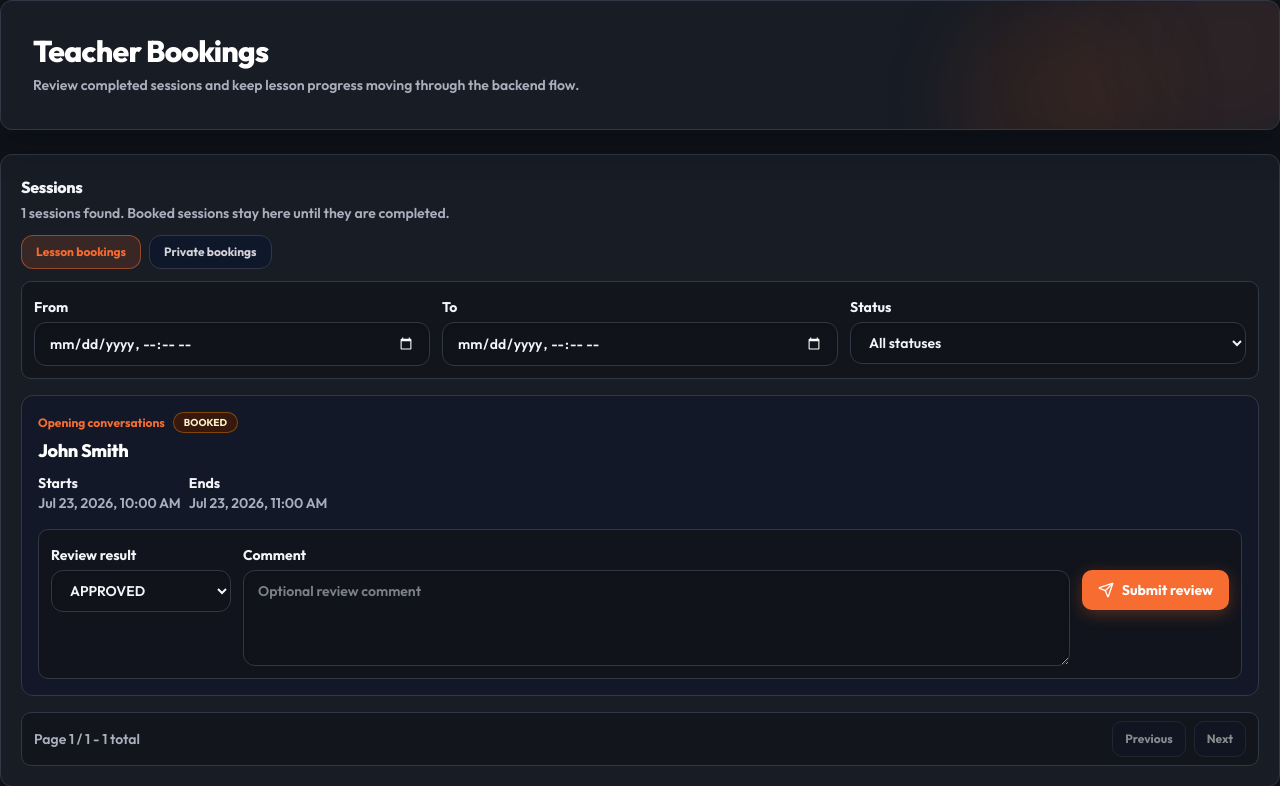
Scenario: Teacher workspace › submits teacher review and explains missing compensation validation errors
Check: the text "Opening conversations" is shown, box [38, 414, 165, 430]
Select "NOT_APPROVED" in the dropdown with test id "teacher-review-result-88". click: (141, 591)
box: [51, 570, 231, 612]
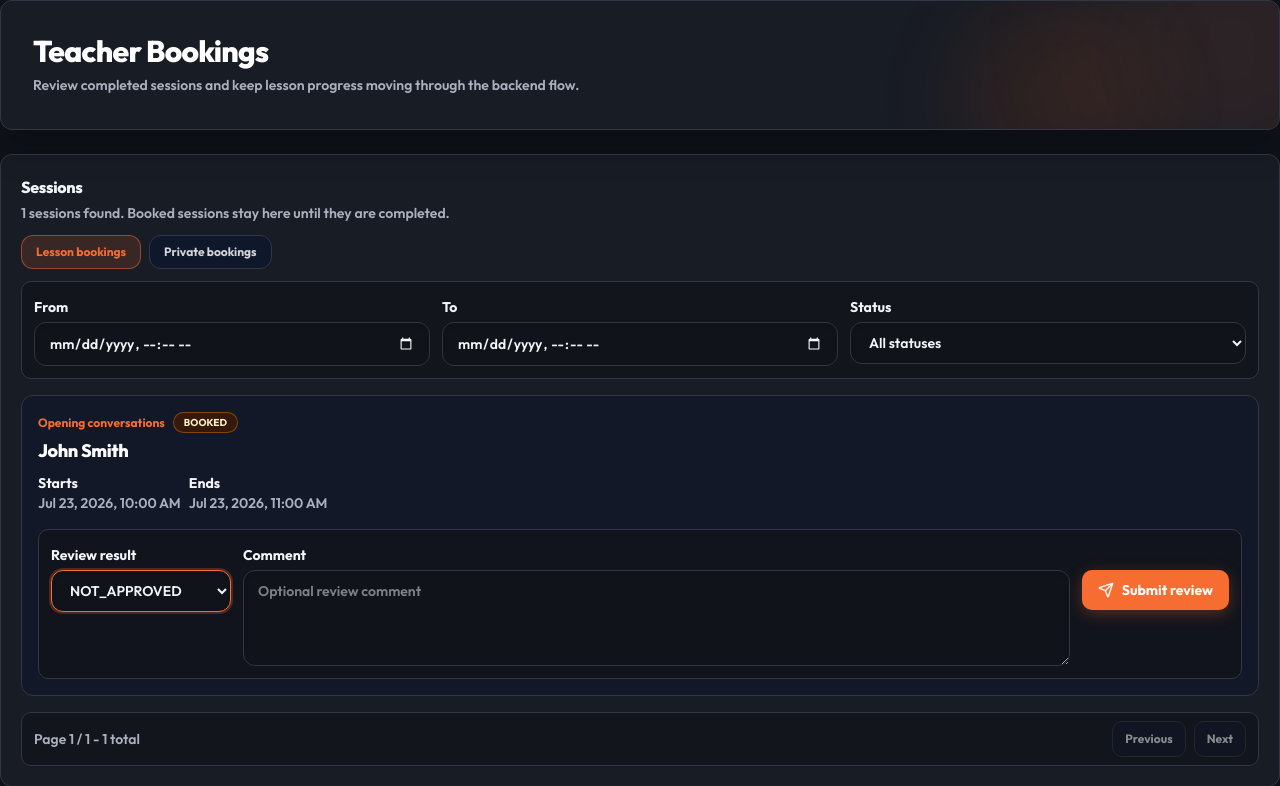
Type "Needs another speaking practice session." into the text box with test id "teacher-review-comment-88". click: (656, 618)
box: [243, 570, 1070, 666]
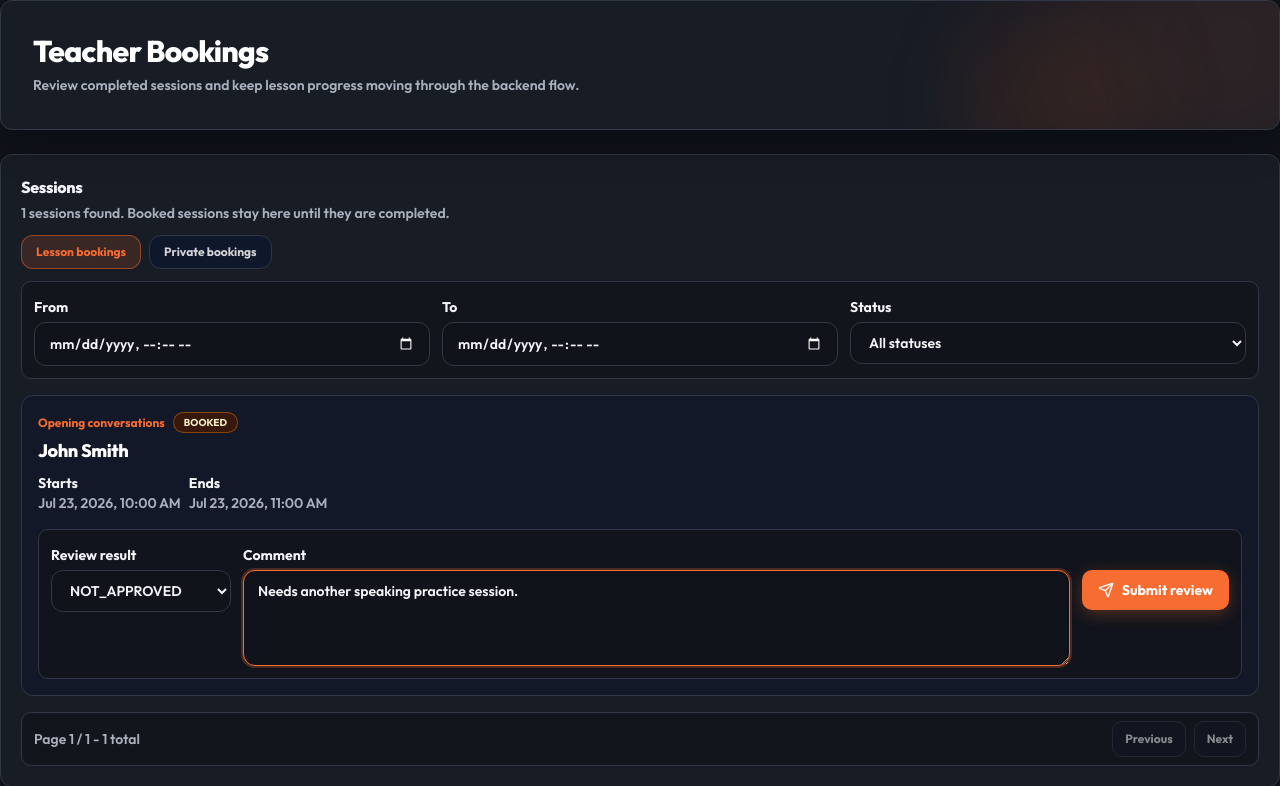
Click the button with test id "submit-teacher-review-88". click: (1155, 590)
box: [1082, 570, 1229, 610]
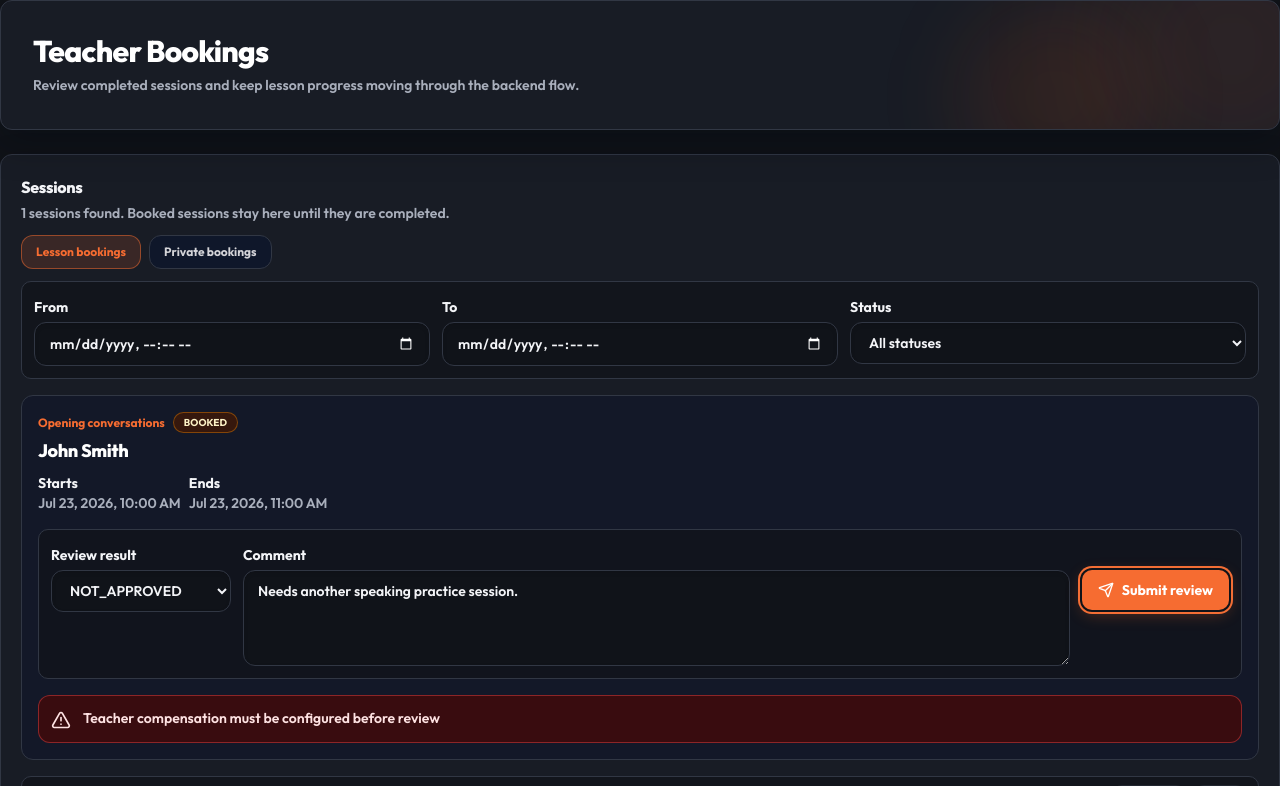
Check: the text "Teacher compensation must be configured before review" is shown, box [38, 695, 1242, 743]
